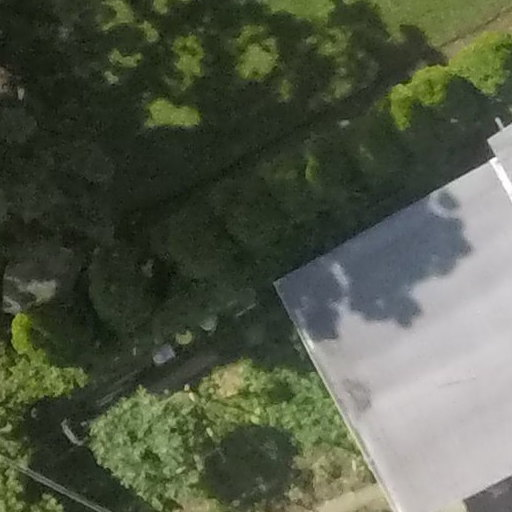container: (192, 310, 225, 335), (170, 326, 207, 344)
